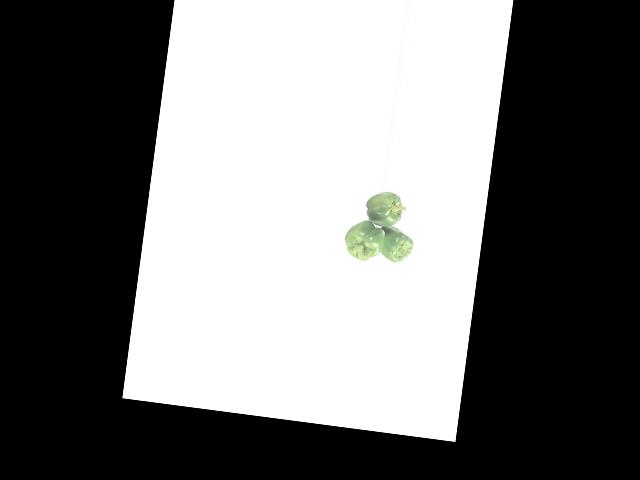bell_pepper: (338, 217, 387, 266)
